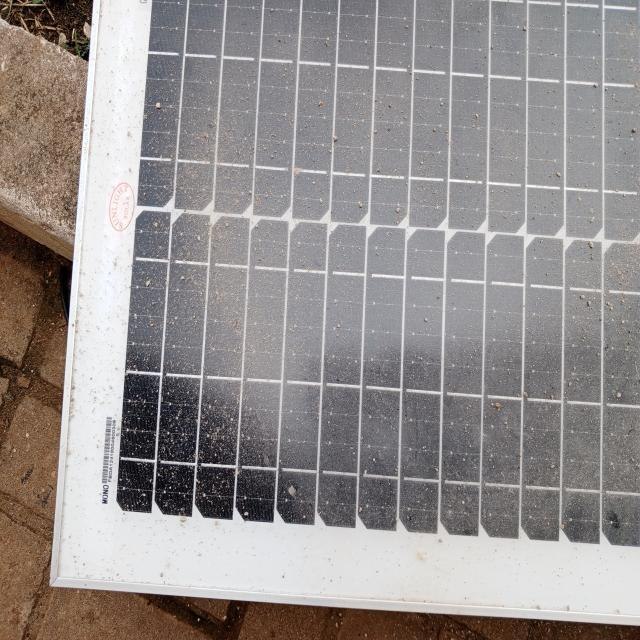Surface Contaminant: (139, 8, 639, 555)
